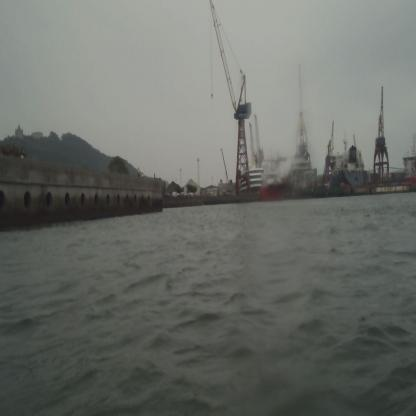Fishing Boat: (258, 171, 284, 199)
